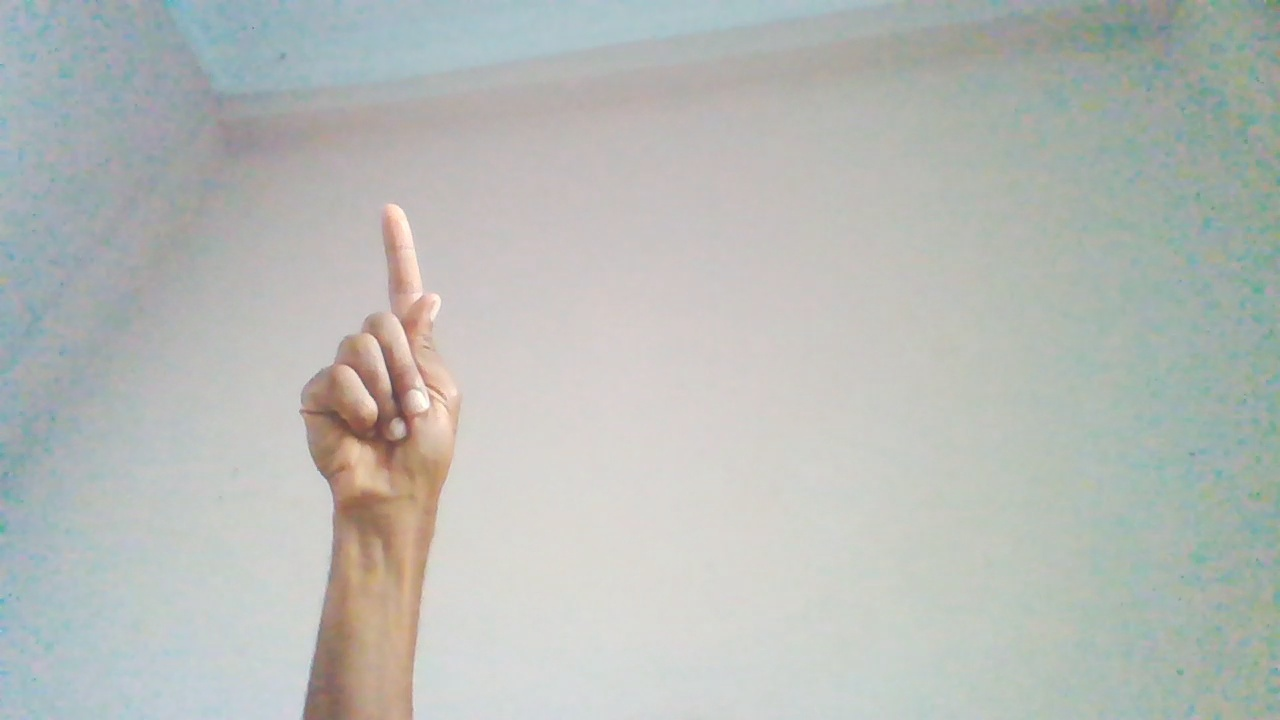ne: (295, 208, 472, 588)
